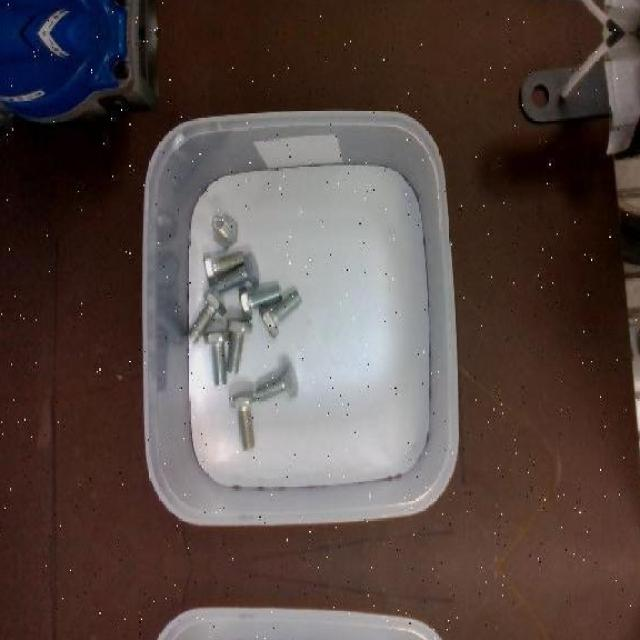screw: (188, 288, 228, 344), (259, 289, 302, 338), (218, 251, 260, 293), (257, 360, 299, 400), (230, 390, 256, 451), (205, 327, 231, 386), (240, 284, 282, 320), (203, 252, 246, 286), (227, 316, 253, 372), (213, 214, 238, 248)
